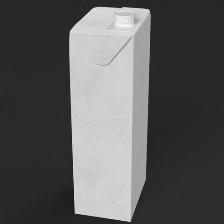carton: (60, 3, 154, 223)
